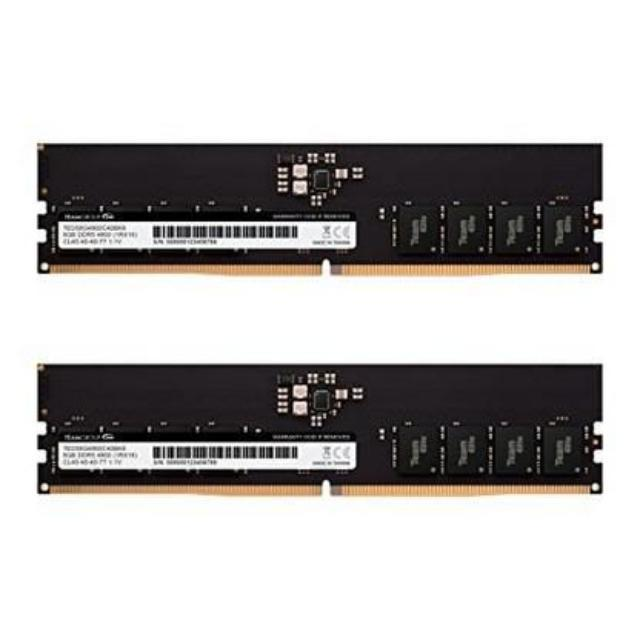RAM: (28, 123, 608, 294), (26, 349, 612, 503)
